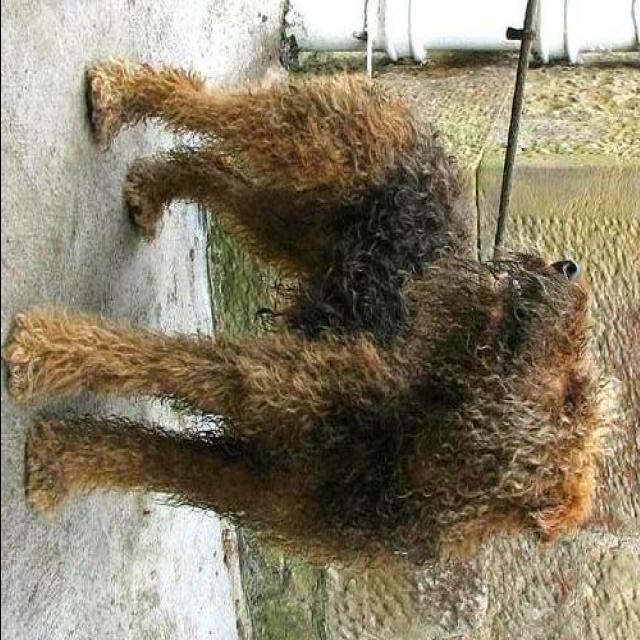airedale: (2, 62, 626, 572)
